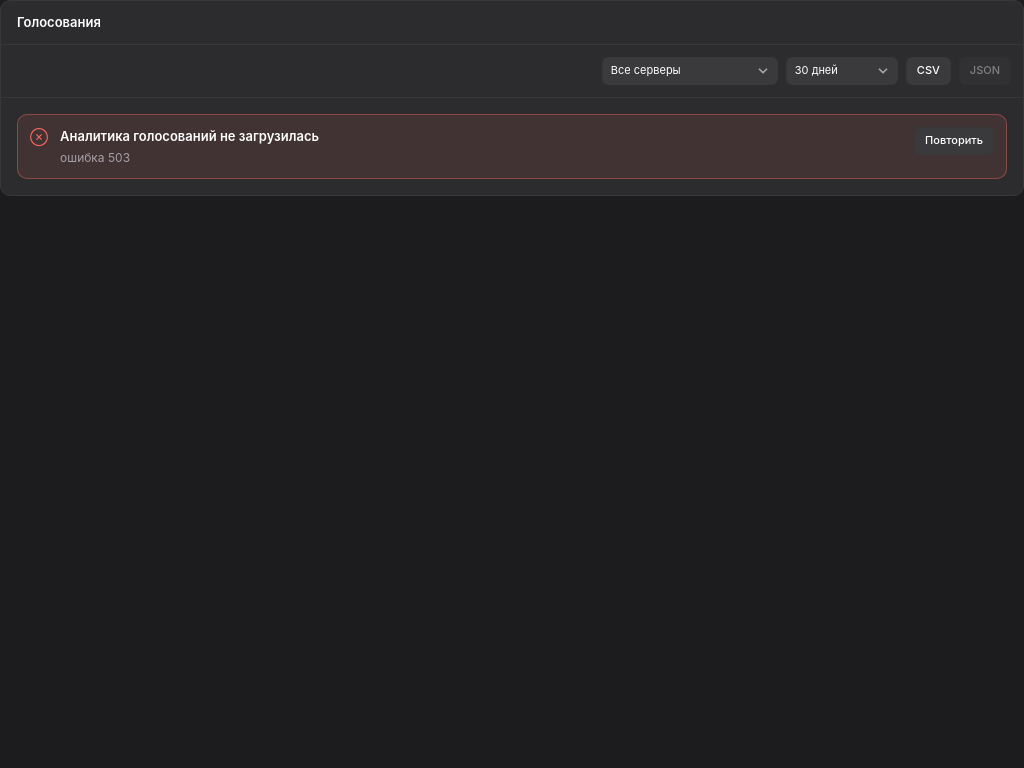
Test: VoteAnalyticsPanel — branch coverage › offers a retry that re-runs the request after a failure
This screenshot has width=1024, height=768.
Check: the text "ошибка 503" is shown, box [60,150,130,165]
Click the button "Повторить" at (954, 141), box [914,127,994,155]
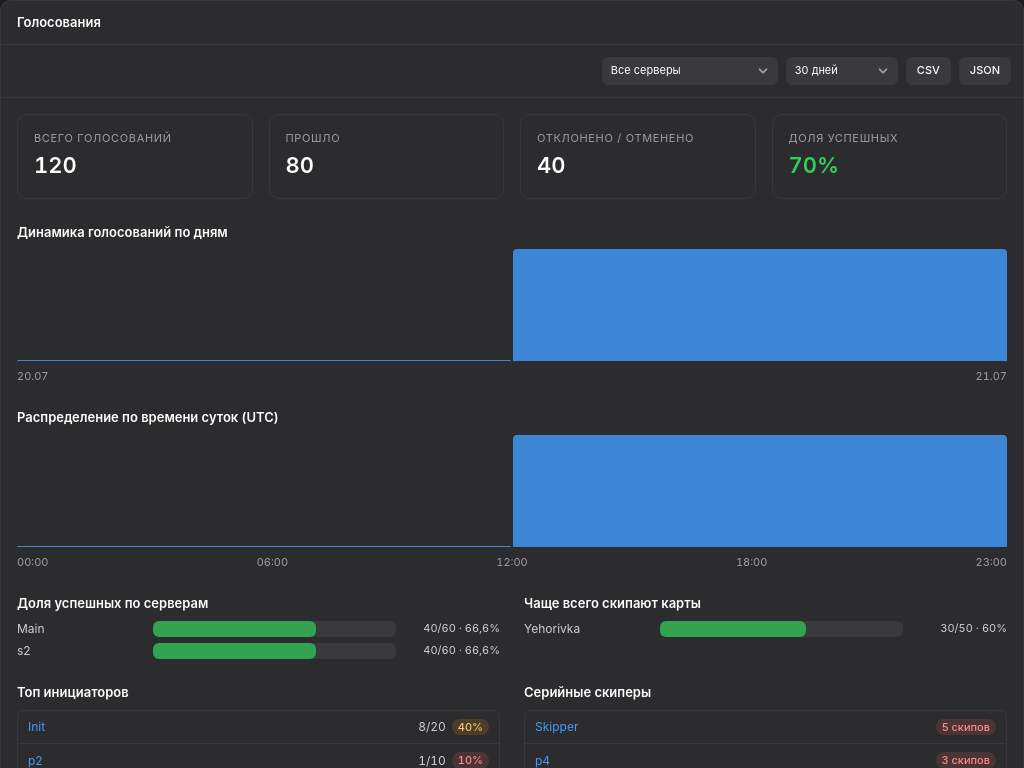
Check: the text "Всего голосований" is shown, box [34,131,172,145]
